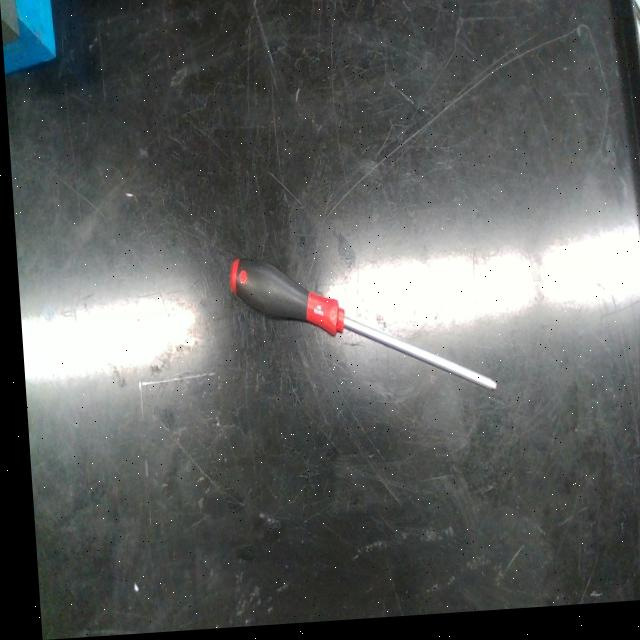Screwdriver: (225, 261, 491, 396)
